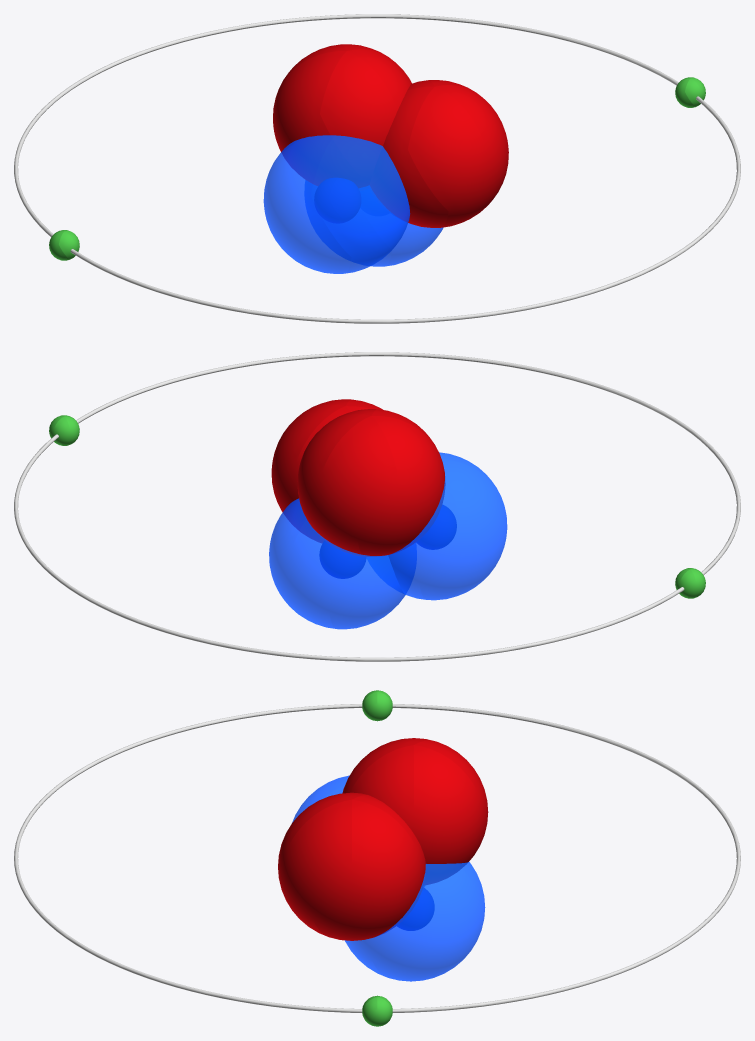
File: element_002_helium.glb
3 views of the same model, one above another, from view 1: azimuth 30°, elevation 25°; view 2: azimuth 150°, elevation 25°; view 3: azimuth 270°, elevation 25° (orthographic).
Visible parts, largest first — view 1: element_002_helium_nucleus, helium_orbital_1_3; view 2: element_002_helium_nucleus, helium_orbital_1_3; view 3: element_002_helium_nucleus, helium_orbital_1_3.
Boxes of the visible parts, box(x1,y1,x2,y2) form: element_002_helium_nucleus: box(263, 44, 508, 273); helium_orbital_1_3: box(14, 14, 740, 323); element_002_helium_nucleus: box(269, 399, 507, 629); helium_orbital_1_3: box(14, 352, 740, 661); element_002_helium_nucleus: box(278, 738, 488, 981); helium_orbital_1_3: box(14, 690, 740, 1026).
Size of what is drawn, in the model's own units: 0.5536 by 0.1743 by 0.5339.
